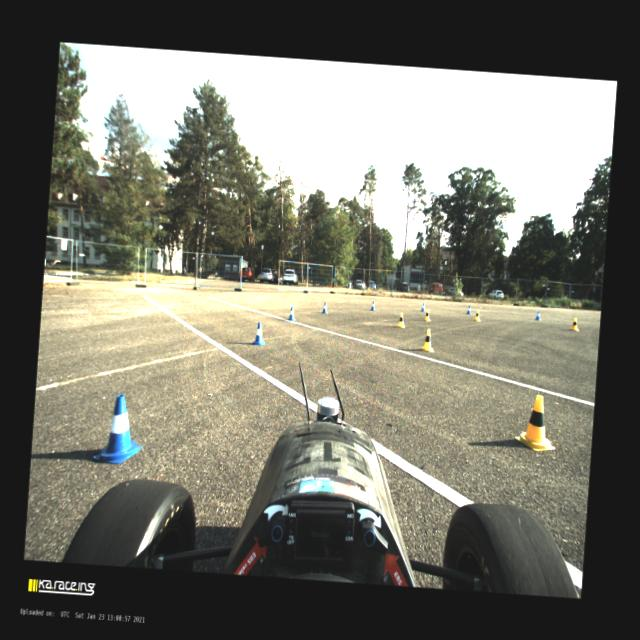blue_cone: (90, 392, 145, 465), (252, 321, 266, 346), (288, 304, 296, 322), (322, 301, 328, 314), (534, 310, 541, 320), (370, 300, 376, 311), (465, 305, 471, 314), (420, 302, 426, 311)
yellow_cone: (512, 392, 559, 453), (421, 328, 435, 352), (396, 311, 406, 328), (569, 316, 580, 331), (472, 308, 480, 322), (424, 308, 432, 321)
